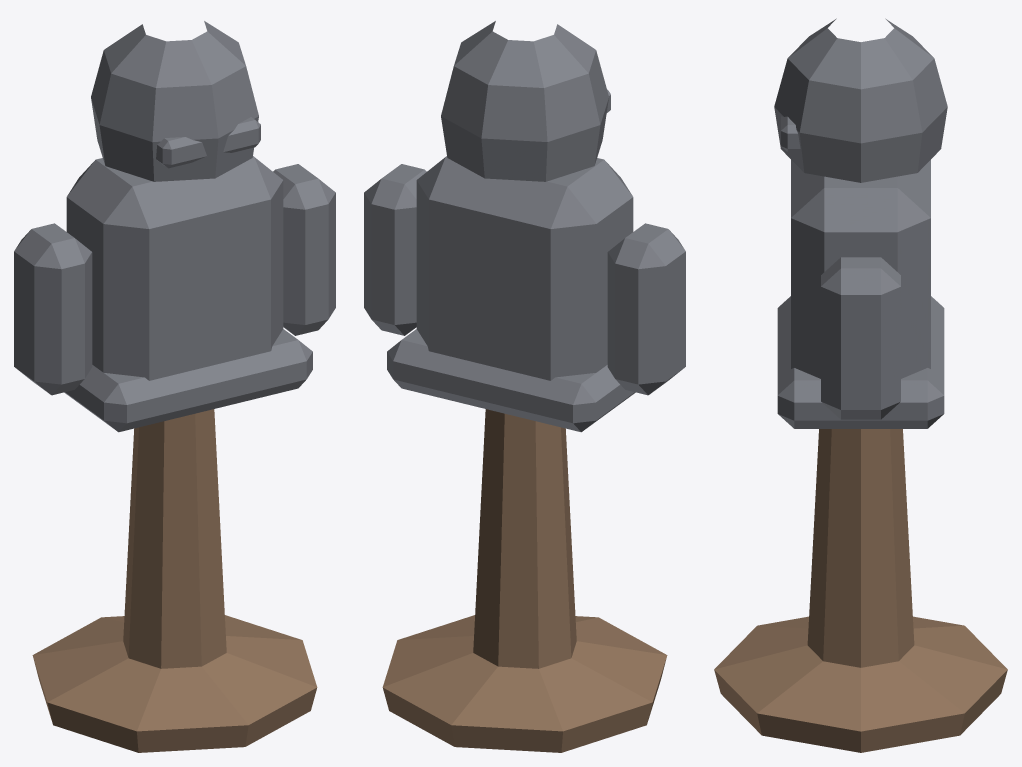
File: armour-stand.glb
3 views of the same model, side by side, from view 1: azimuth 30°, elevation 25°; view 2: azimuth 150°, elevation 25°; view 3: azimuth 270°, elevation 25° (orthographic).
Parts seen in each view (by area): view 1: armour-stand; view 2: armour-stand; view 3: armour-stand.
Boxes of the visible parts, box(x1,y1,x2,y2) form: armour-stand: box(14, 21, 335, 752); armour-stand: box(364, 21, 685, 752); armour-stand: box(714, 18, 1007, 752).
Size of the model in its own units: 1.04 by 2.2 by 0.88.
